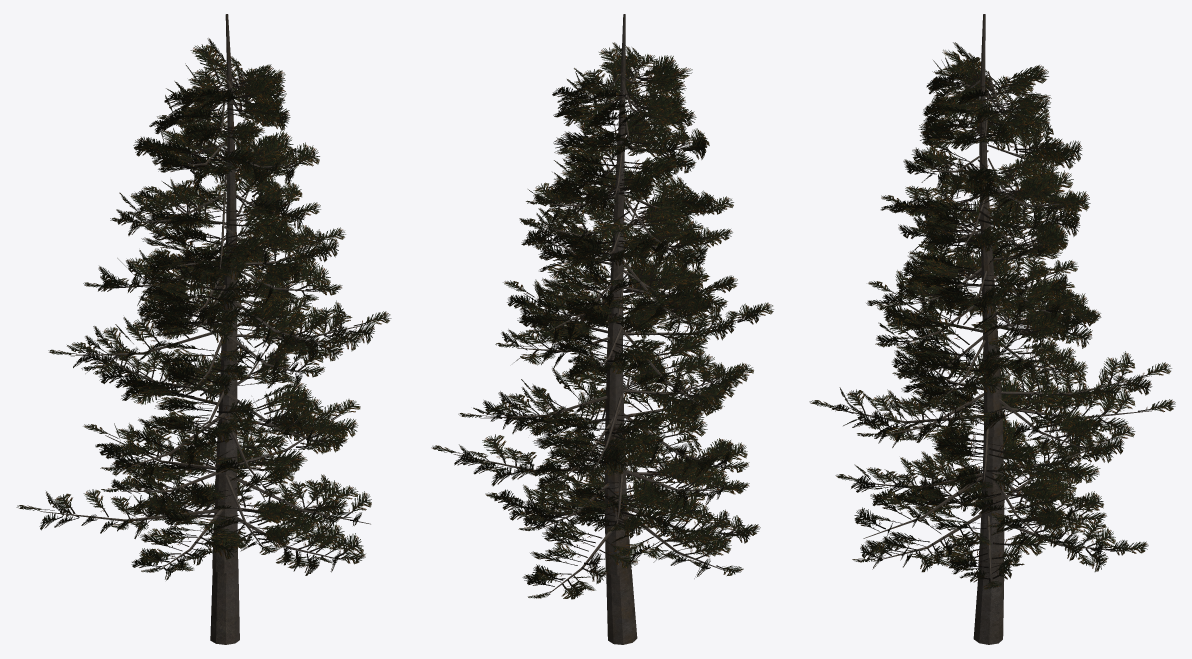
File: pine-0.glb
The picture shows the model from 3 angles, left to right: view 1: azimuth 30°, elevation 25°; view 2: azimuth 150°, elevation 25°; view 3: azimuth 270°, elevation 25°; orthographic projection.
Parts seen in each view (by area): view 1: Foliage 0, Trunk 0; view 2: Foliage 0, Trunk 0; view 3: Foliage 0, Trunk 0.
Boxes of the visible parts, x1,y1,x2,y2 form: Foliage 0: [16, 38, 391, 580]; Trunk 0: [40, 14, 370, 644]; Foliage 0: [431, 42, 773, 599]; Trunk 0: [453, 14, 745, 644]; Foliage 0: [809, 42, 1175, 589]; Trunk 0: [834, 14, 1152, 644].
Size of the model in its own units: 5.58 by 10.01 by 5.4.
2 materials, 2 textured.
